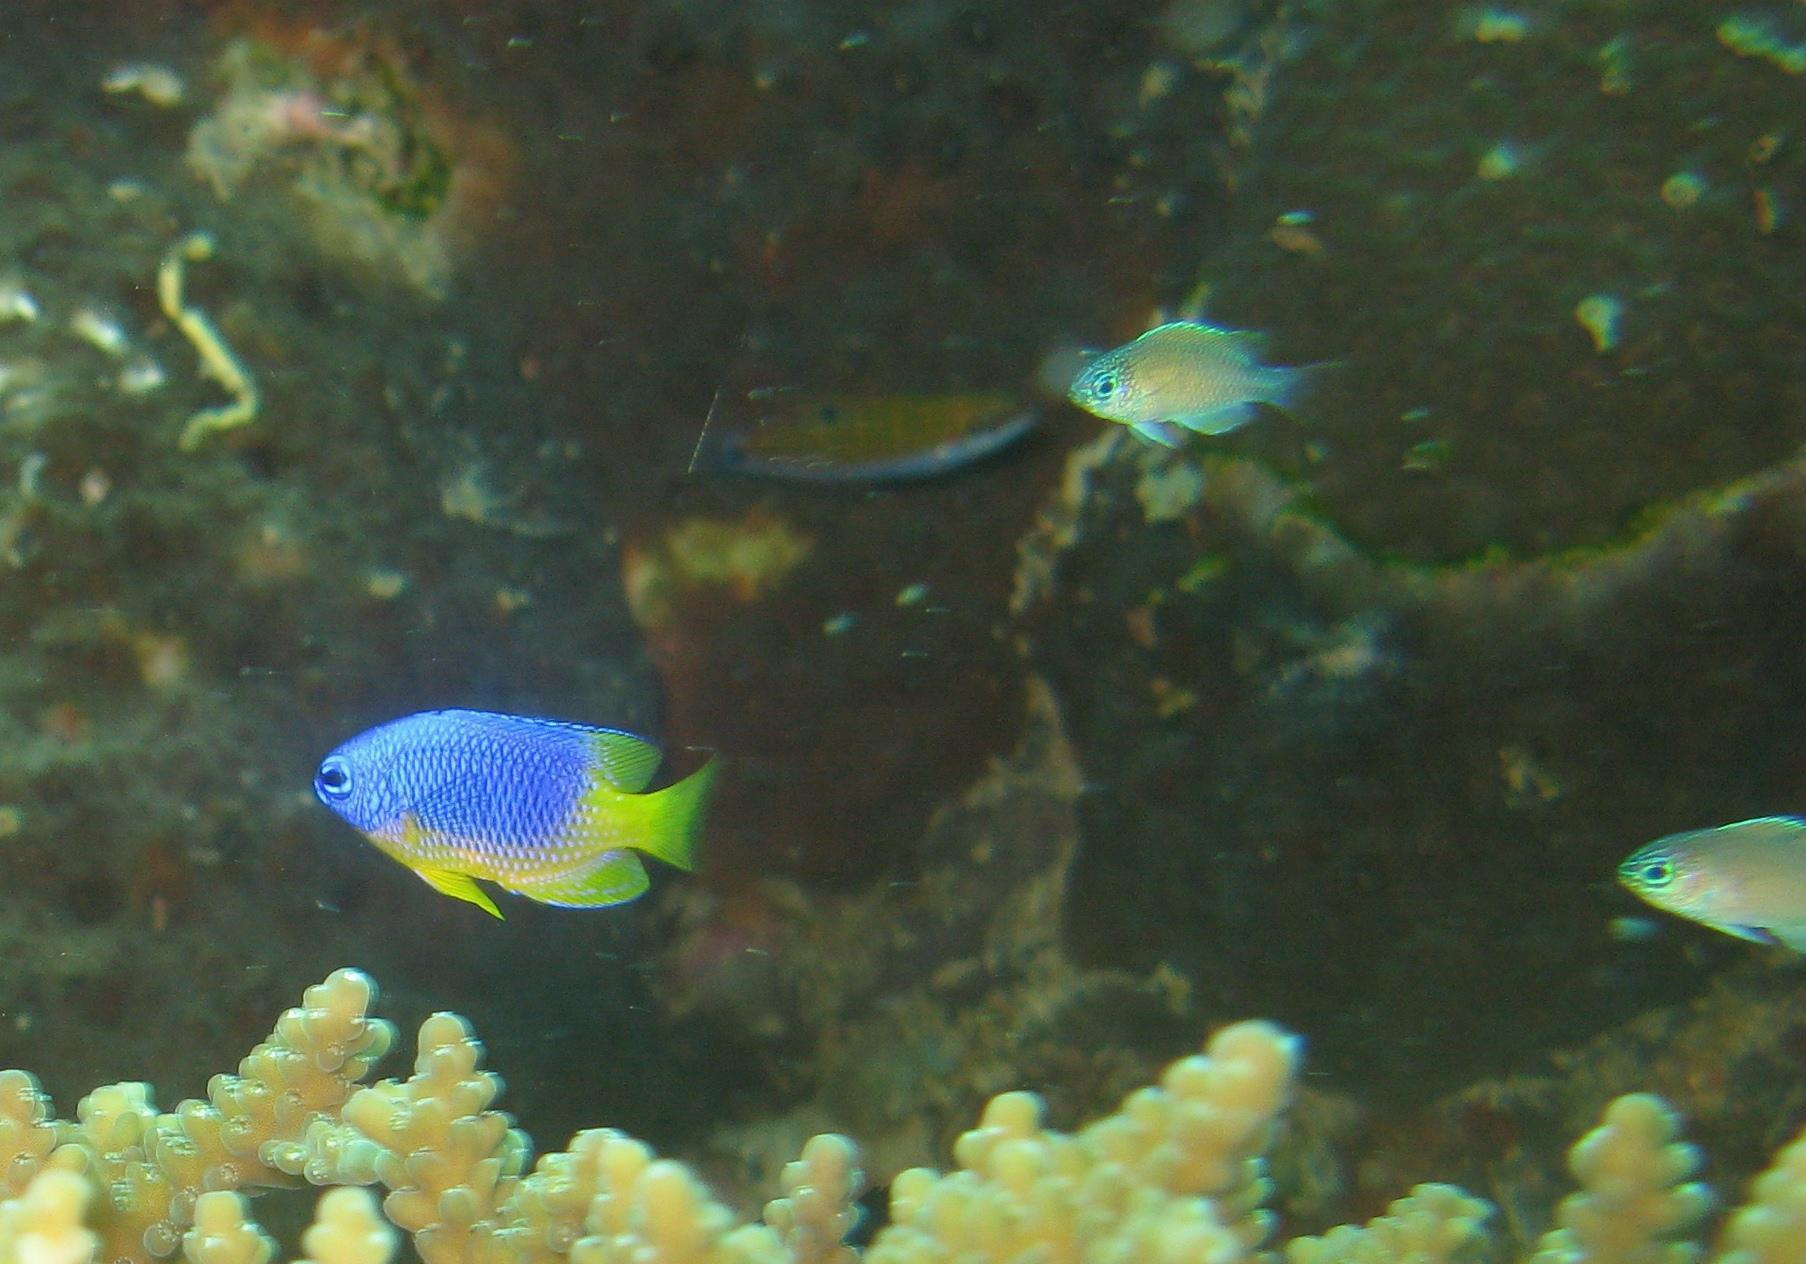Fish: (301, 708, 733, 933)
